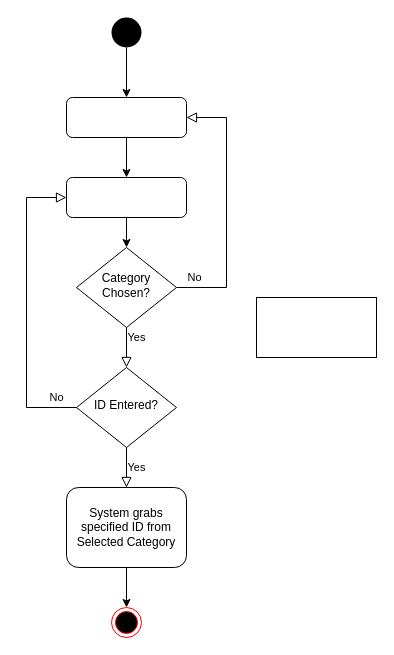
This 394x655 diagram has some shape labels left out. The centre of each missing label's shape, as x and y in pixels:
"Enter Category ID" belongs at point (126, 197).
"Select Search Category" belongs at point (126, 117).
